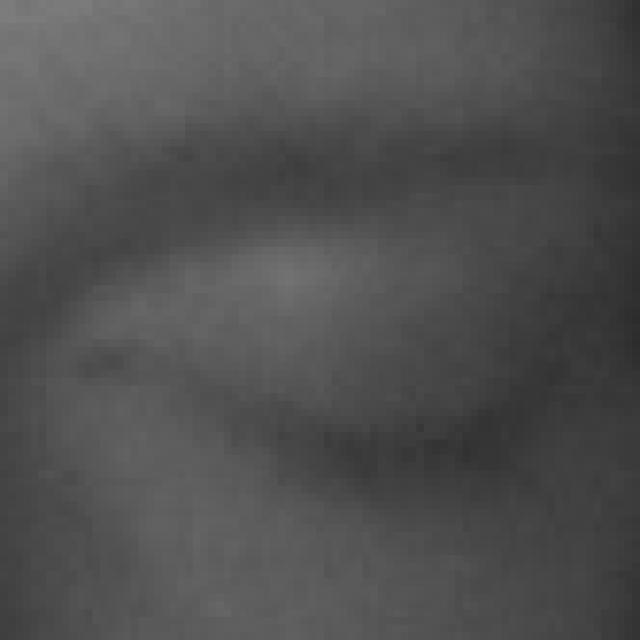Eyeclosed: (211, 224, 540, 612)
